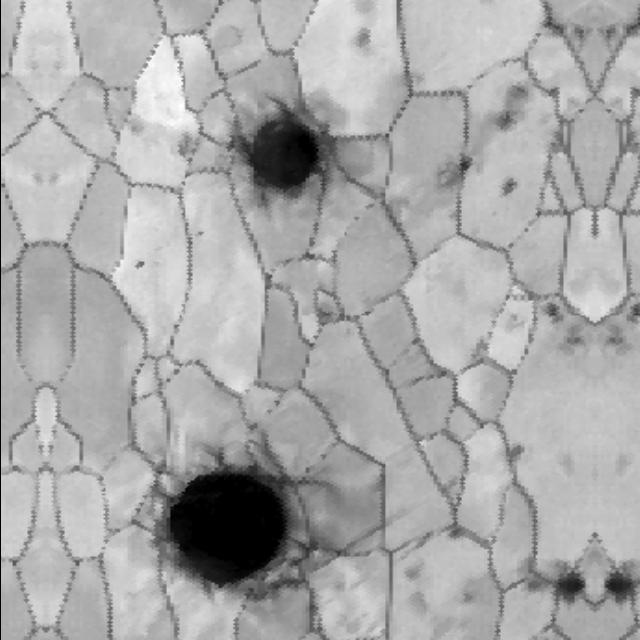good_void: (152, 445, 332, 604), (231, 94, 335, 211), (516, 556, 588, 607), (483, 80, 532, 135), (602, 558, 640, 607), (557, 321, 591, 356), (599, 321, 633, 356), (309, 299, 340, 331), (468, 333, 495, 369), (353, 25, 385, 53), (174, 131, 199, 165), (538, 299, 568, 323), (568, 23, 593, 49), (597, 23, 622, 49), (541, 13, 568, 36), (452, 157, 475, 181), (128, 116, 150, 141), (503, 178, 519, 206), (622, 299, 640, 323), (507, 445, 528, 465), (622, 13, 640, 36), (132, 255, 153, 274), (196, 224, 210, 244)
